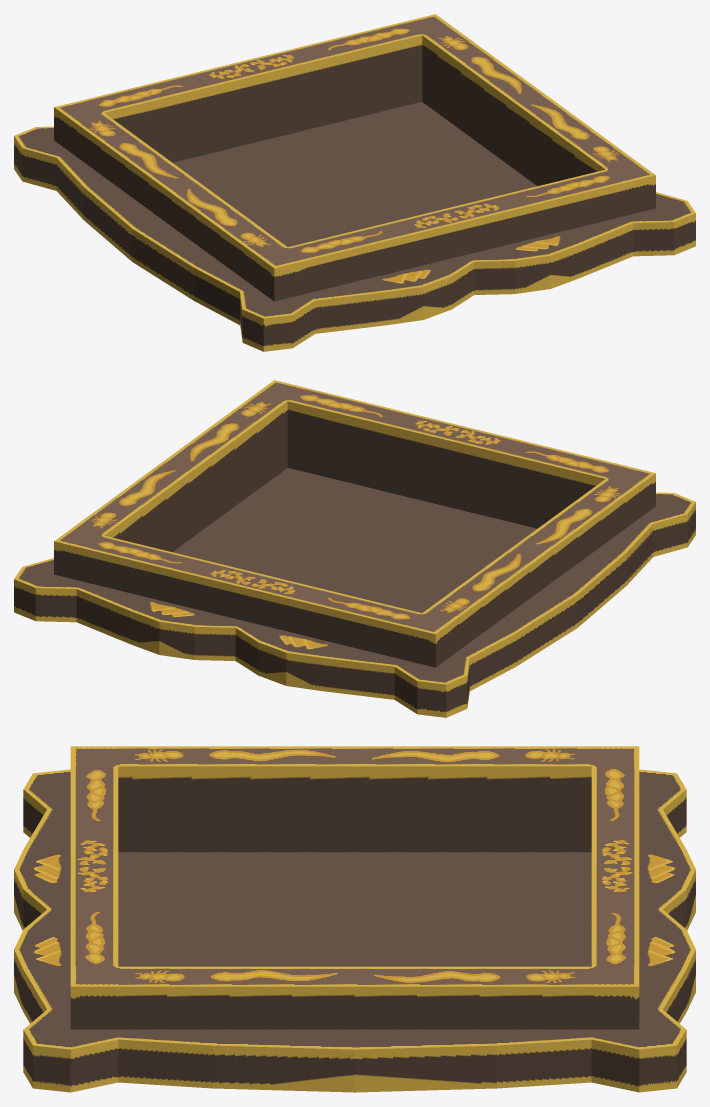
File: frame.glb
The picture shows the model from 3 angles, top to bottom: view 1: azimuth 30°, elevation 25°; view 2: azimuth 150°, elevation 25°; view 3: azimuth 270°, elevation 25°; orthographic projection. The views are drawn at different scales.
Visible parts, largest first — view 1: Cube; view 2: Cube; view 3: Cube.
Boxes of the visible parts, x1,y1,x2,y2 form: Cube: [14, 14, 695, 351]; Cube: [14, 380, 695, 717]; Cube: [14, 746, 695, 1092].
Size of the model in its own units: 1.4 by 0.2 by 1.44.
Materials: 1 (1 with a texture image).
